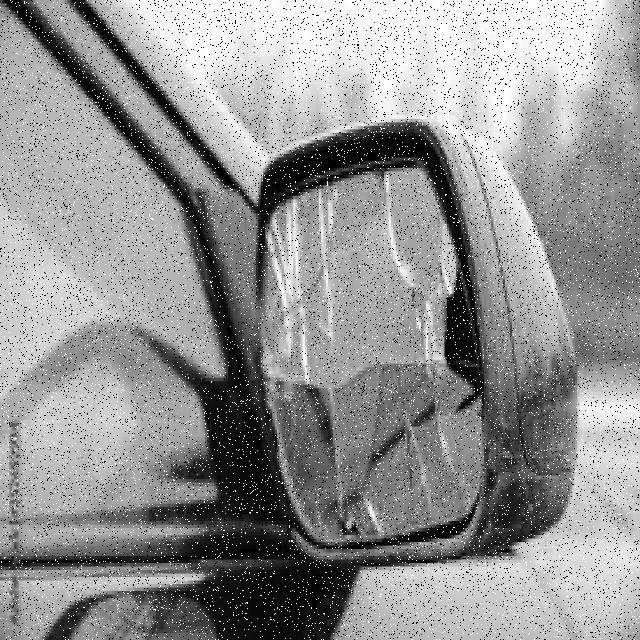Sidemirror-Damage: (236, 96, 615, 589)
